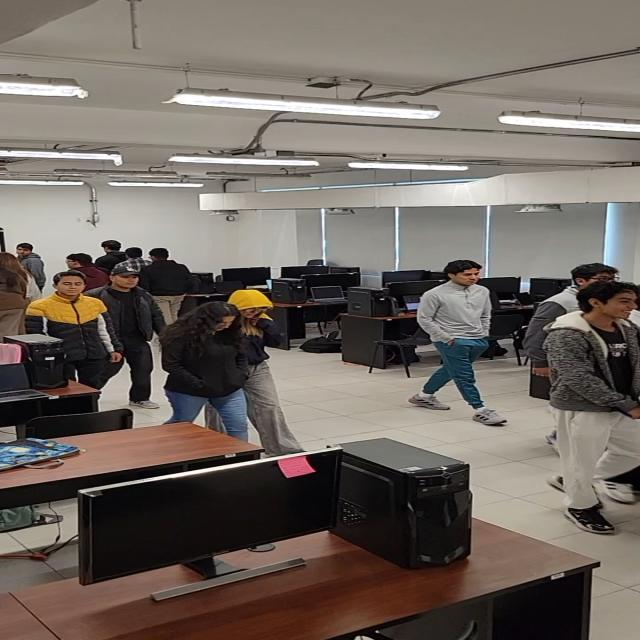Persona: (546, 280, 640, 538), (409, 255, 512, 425), (223, 290, 303, 458), (167, 301, 255, 441), (33, 264, 101, 389), (103, 268, 160, 406), (145, 247, 183, 317)
